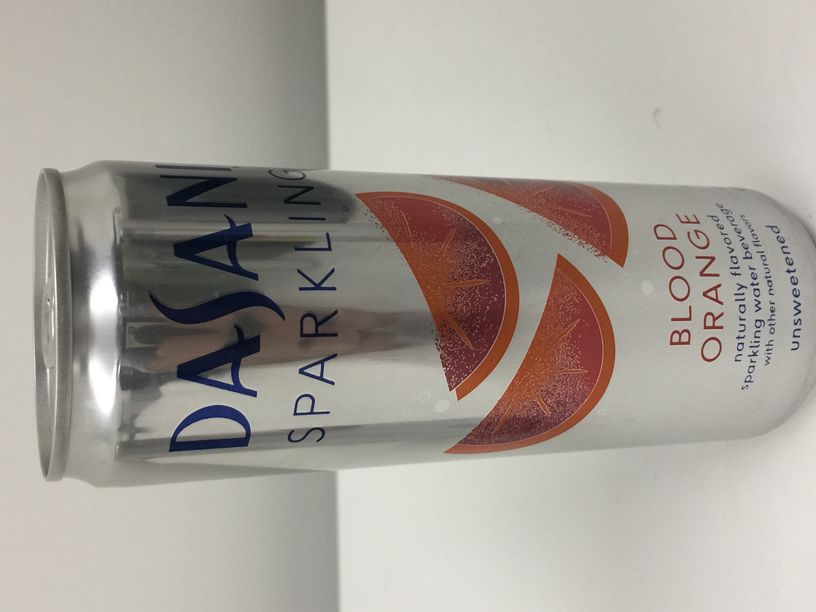blood_orange: (33, 157, 816, 488)
